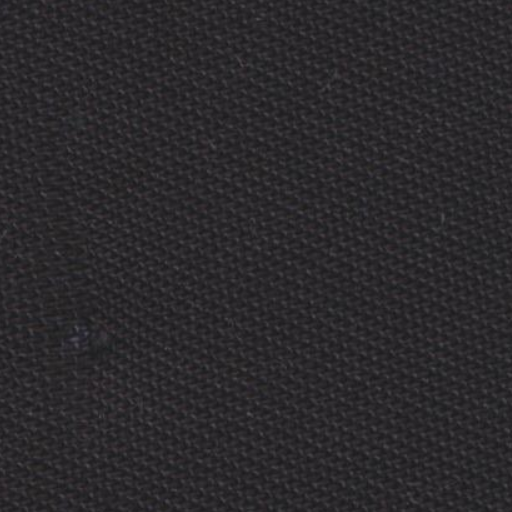PoDong: (44, 282, 136, 375)
